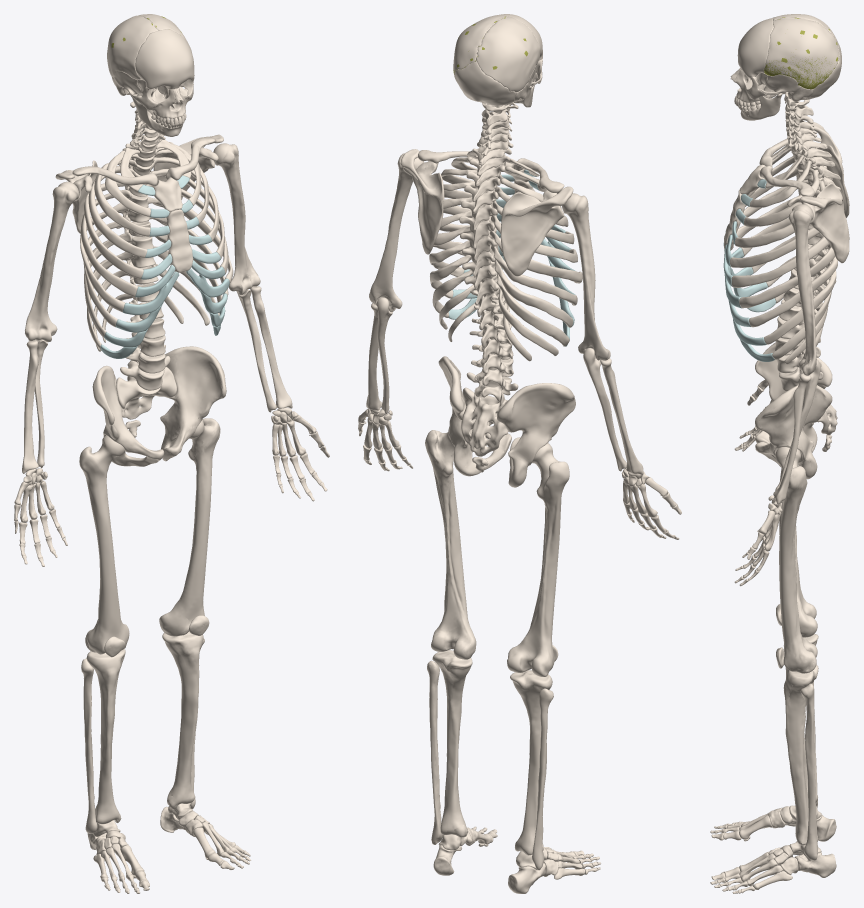
The model's file is skeleton_at.glb.
3 renders of one model, left to right at view 1: azimuth 30°, elevation 25°; view 2: azimuth 150°, elevation 25°; view 3: azimuth 270°, elevation 25°, orthographic. The views are drawn at different scales.
Visible parts, largest first — view 1: Femur.r, Femur.l, Hip bone.l, Tibia.l, Tibia.r, Frontal bone, Humerus.r, Humerus.l, Hip bone.r, Parietal bone right, Sacrum, Fibula.r (+18 smaller); view 2: Femur.r, Femur.l, Hip bone.r, Scapula.r., Parietal bone right, Tibia.l, Tibia.r, Humerus.r, Scapula.r..l, Hip bone.l, Humerus.l, Sacrum (+15 smaller); view 3: Femur.l, Parietal bone left, Hip bone.l, Tibia.l, Humerus.l, Scapula.r..l, Fibula.l, Frontal bone, Hip bone.r, Radius.l, Rib (7th).l, Rib (6th).l (+28 smaller).
Part boxes in pixels (<box>): Femur.r: <box>79,435,129,654</box>; Femur.l: <box>159,418,220,636</box>; Hip bone.l: <box>160,346,226,461</box>; Tibia.l: <box>162,631,203,809</box>; Tibia.r: <box>86,649,125,824</box>; Frontal bone: <box>135,29,194,89</box>; Humerus.r: <box>25,181,79,342</box>; Humerus.l: <box>213,143,260,295</box>; Hip bone.r: <box>92,365,164,466</box>; Parietal bone right: <box>107,15,158,79</box>; Sacrum: <box>116,367,176,419</box>; Fibula.r: <box>81,658,97,833</box>; Femur.r: <box>507,443,569,676</box>; Femur.l: <box>425,426,476,659</box>; Hip bone.r: <box>497,383,575,487</box>; Scapula.r.: <box>500,186,573,276</box>; Parietal bone right: <box>476,16,540,92</box>; Tibia.l: <box>432,650,472,837</box>; Tibia.r: <box>510,670,552,855</box>; Humerus.r: <box>562,193,610,360</box>; Scapula.r..l: <box>400,149,444,254</box>; Hip bone.l: <box>438,356,511,476</box>; Humerus.l: <box>369,153,424,312</box>; Sacrum: <box>461,387,508,456</box>; Femur.l: <box>775,447,817,673</box>; Parietal bone left: <box>764,17,839,86</box>; Hip bone.l: <box>755,385,832,479</box>; Tibia.l: <box>783,665,818,845</box>; Humerus.l: <box>788,204,816,375</box>; Scapula.r..l: <box>787,183,849,263</box>; Fibula.l: <box>800,683,817,860</box>; Frontal bone: <box>737,17,773,77</box>; Hip bone.r: <box>755,342,832,452</box>; Radius.l: <box>773,373,810,504</box>; Rib (7th).l: <box>739,247,835,308</box>; Rib (6th).l: <box>731,236,828,287</box>.
Bounding box in the file's own units: 0.671 × 1.7 × 0.2542.
